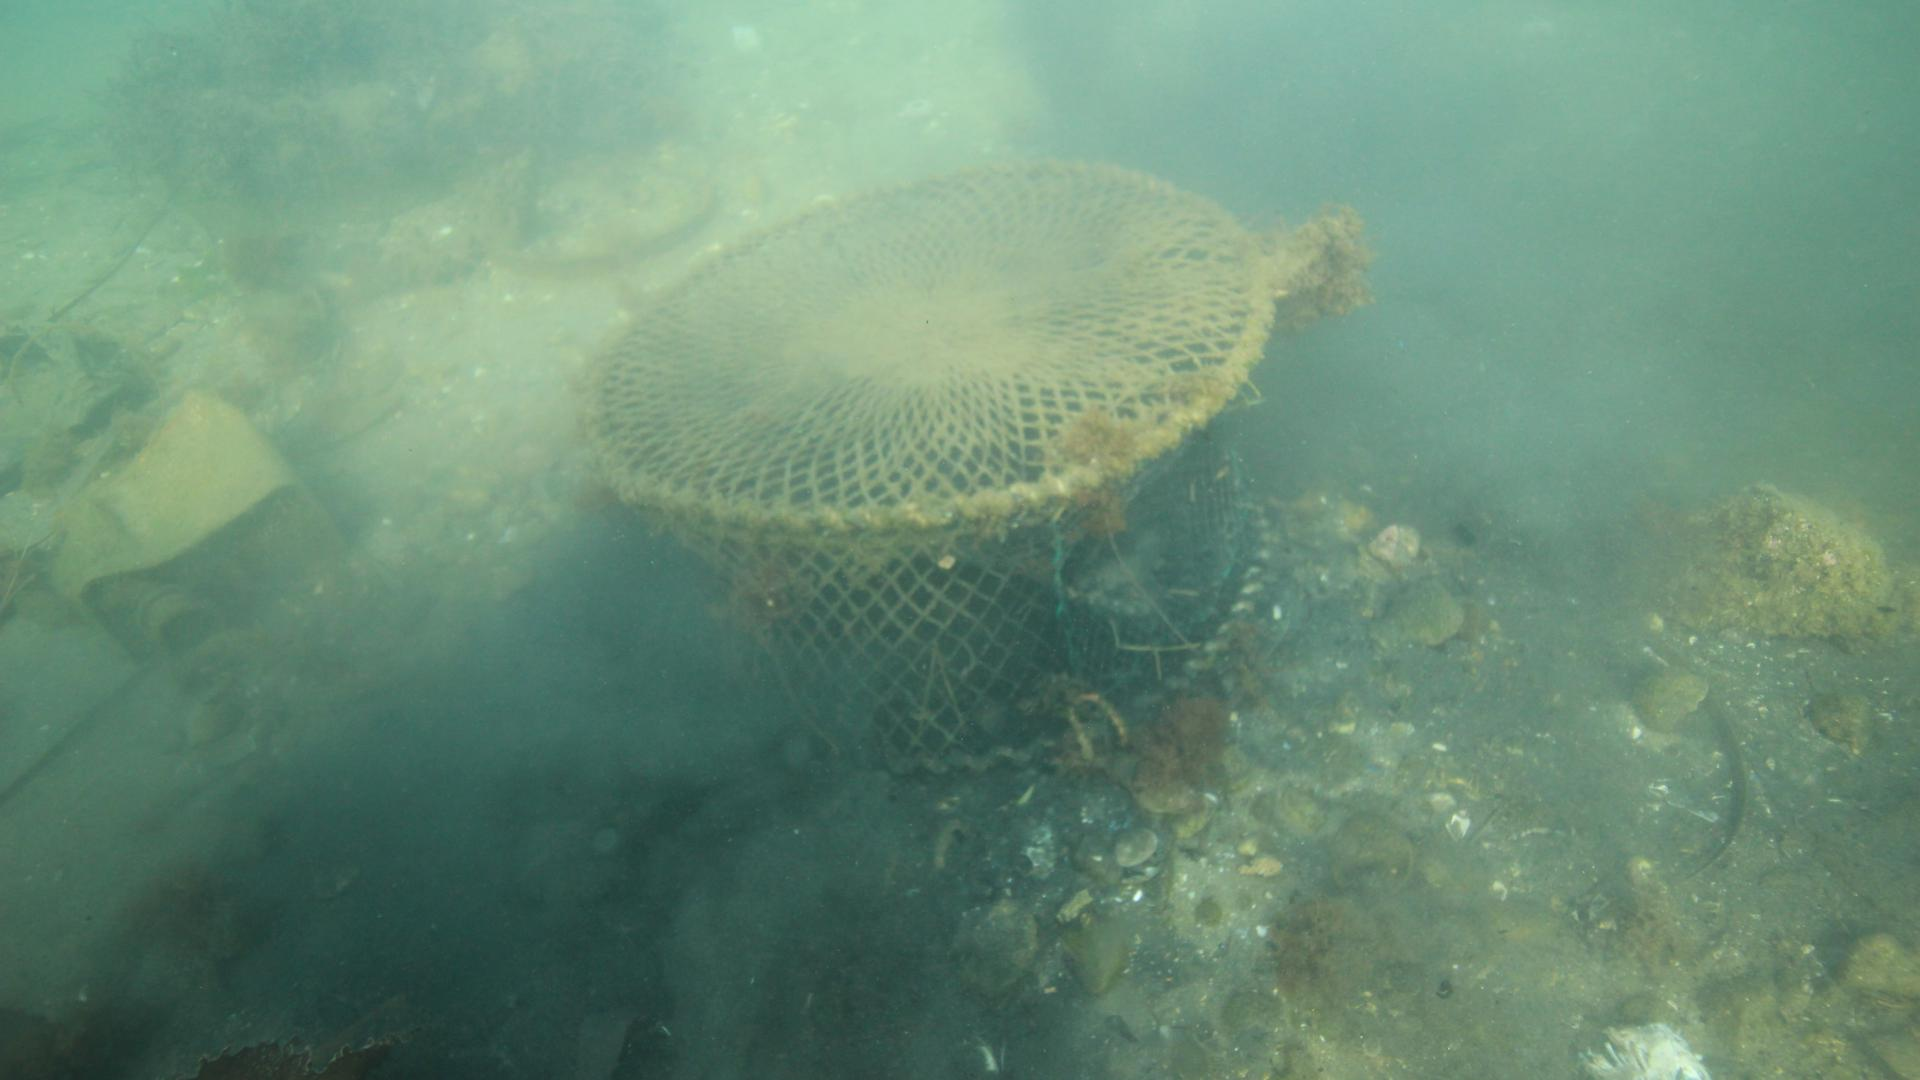circular fish trap: (572, 160, 1274, 775)
